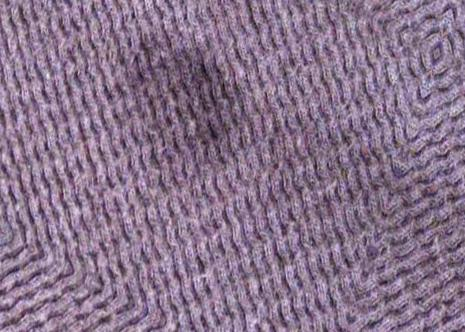stain: (105, 36, 259, 191)
